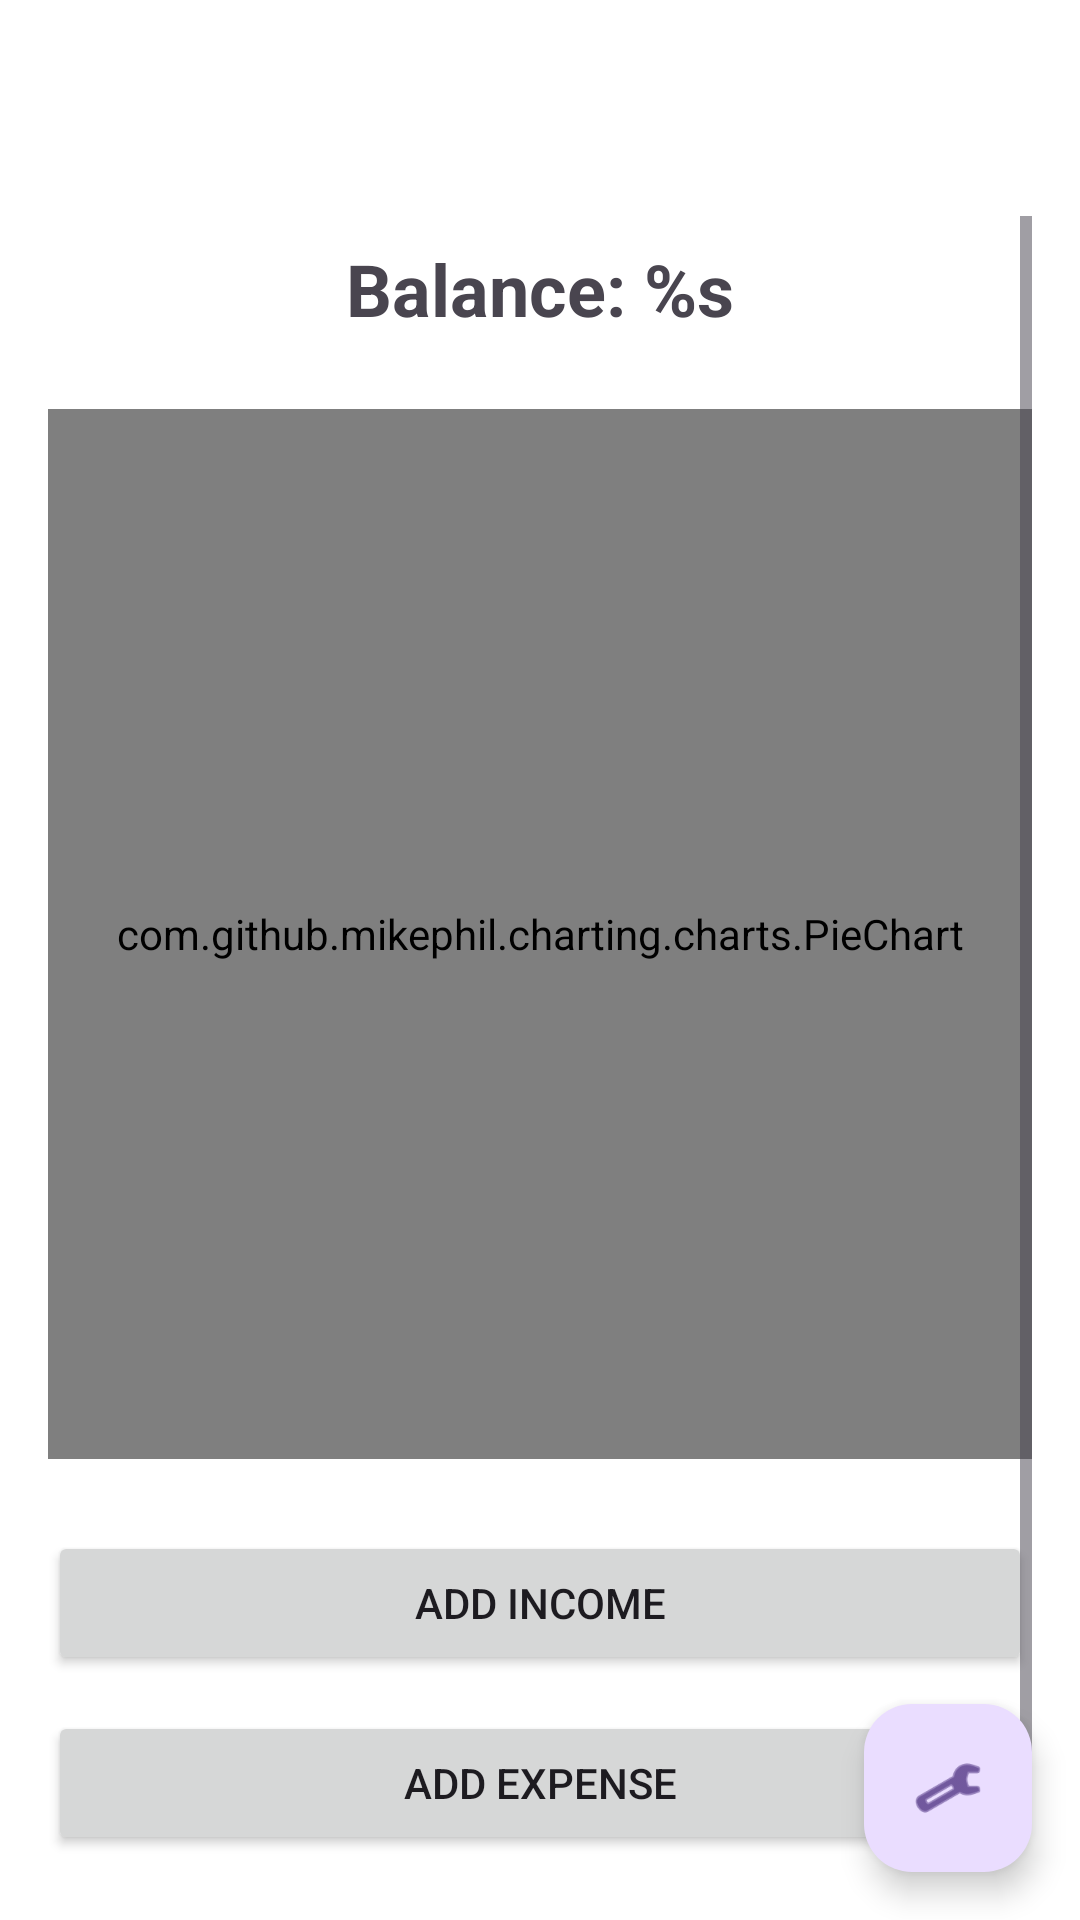

Where to tap for icons on this 1080w x 1920h app screen, as [x,y]:
manage: [948,1788]
